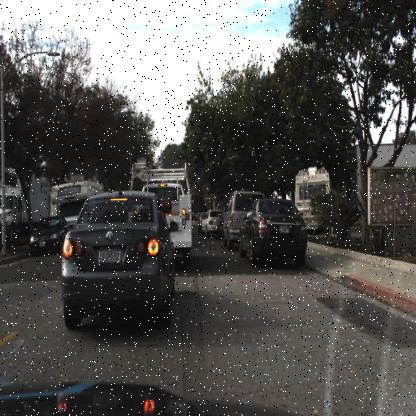car: (60, 189, 176, 330), (127, 152, 192, 262), (236, 195, 307, 268), (165, 162, 196, 270), (46, 174, 104, 230), (292, 164, 334, 236), (221, 188, 261, 250), (27, 211, 69, 255), (200, 209, 228, 242), (215, 199, 227, 245)
truck: (288, 158, 335, 242), (0, 164, 52, 237)
